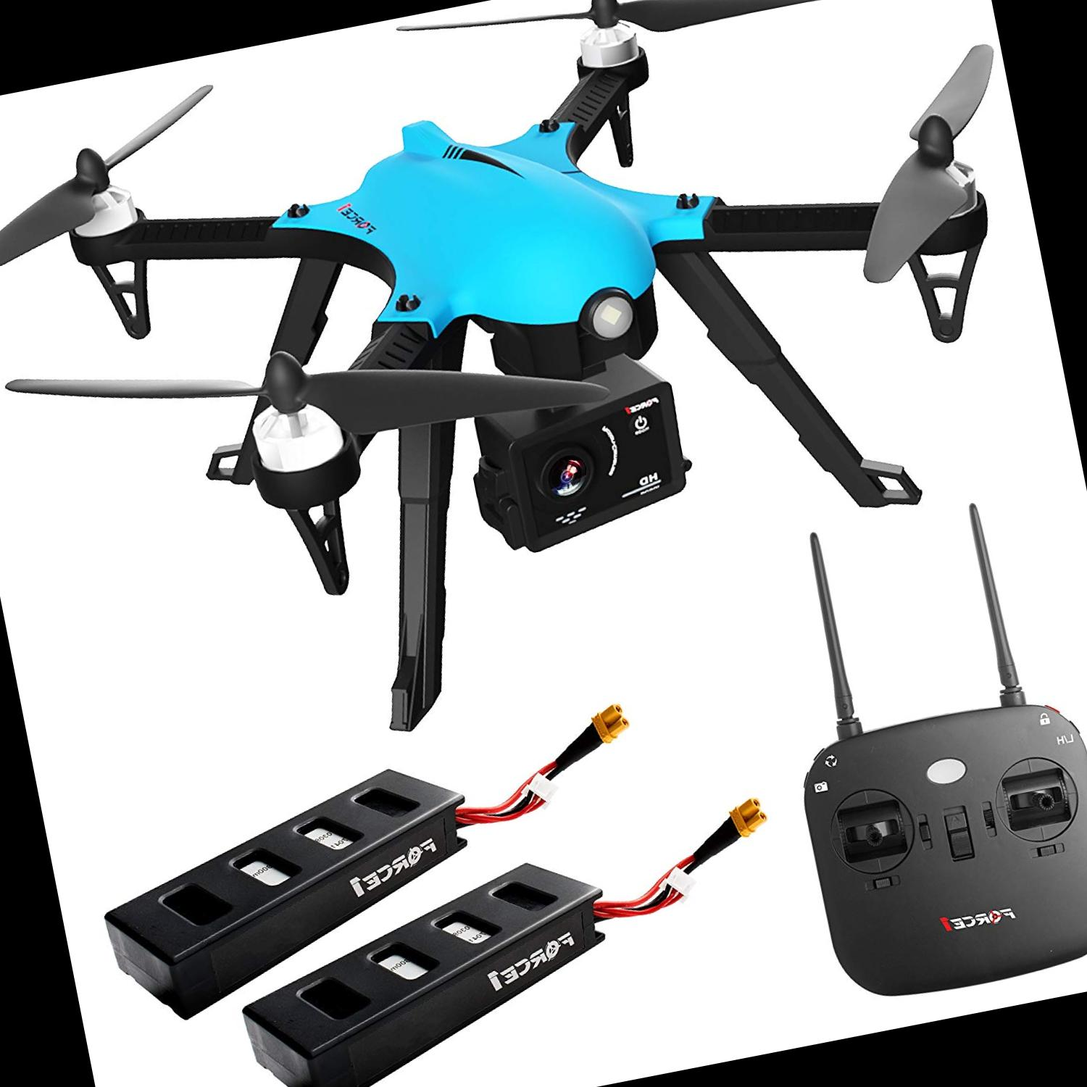drone: (0, 0, 1058, 726)
